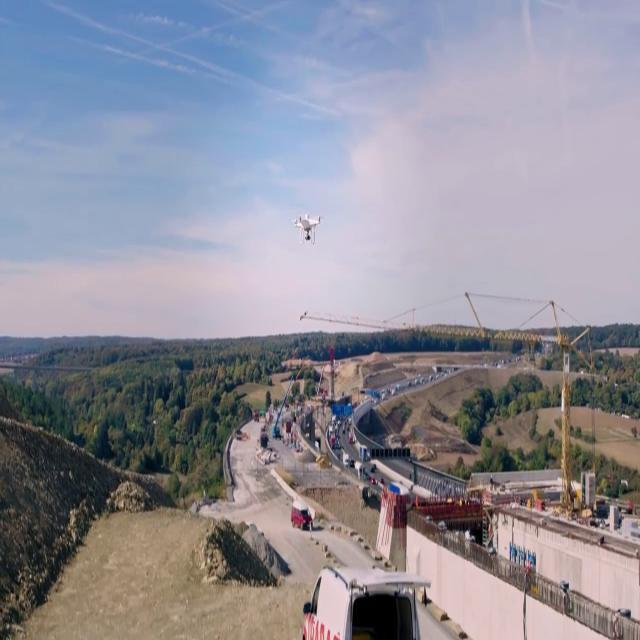drone: (291, 209, 325, 248)
